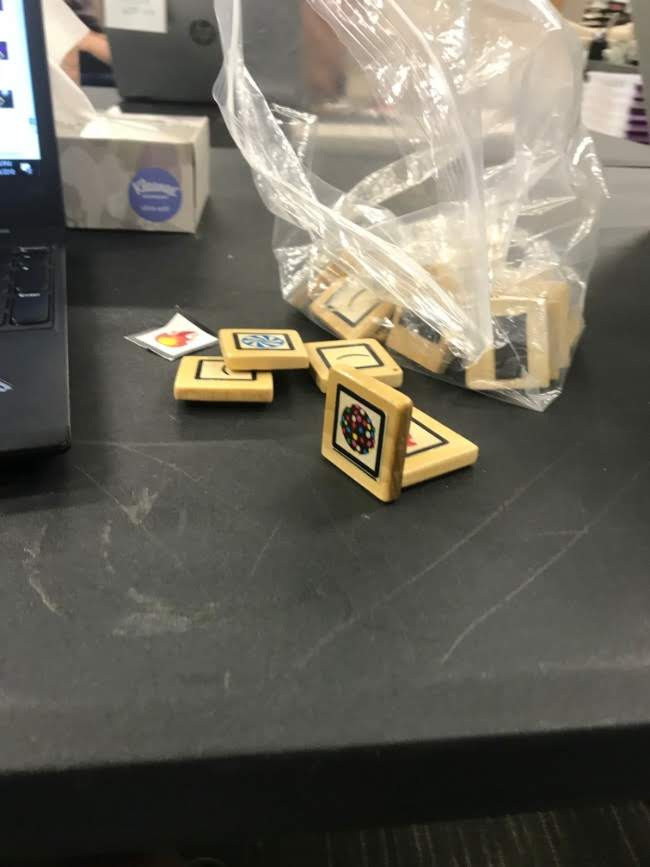cookie: (331, 383, 386, 479)
